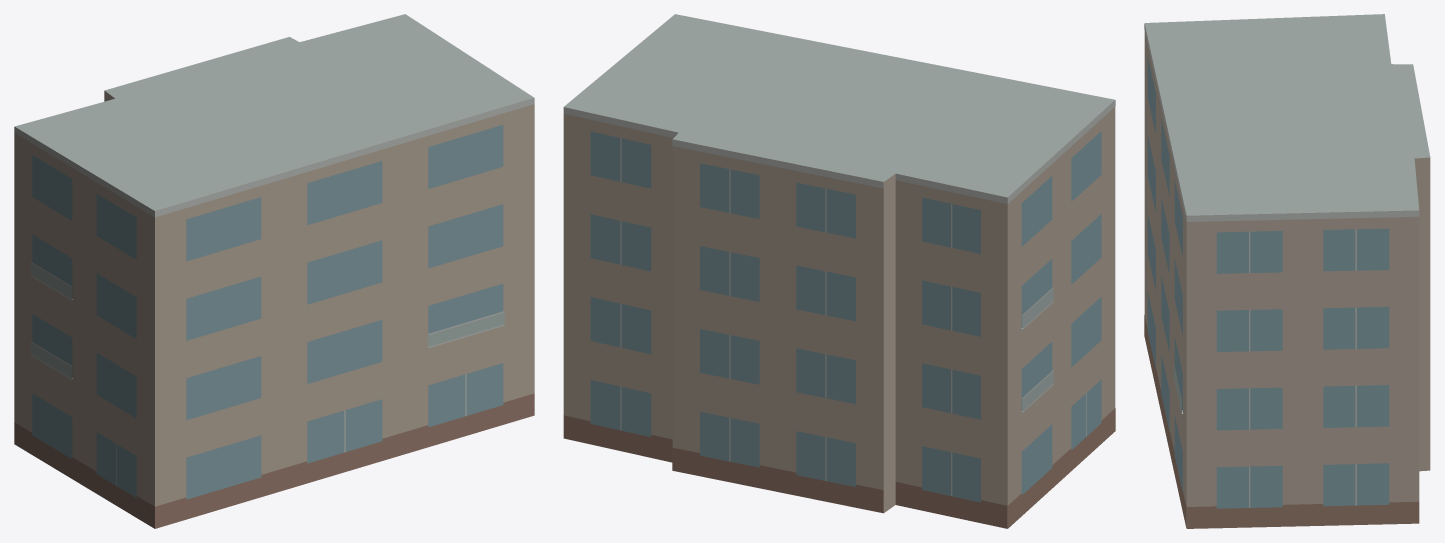
The model's file is survey-upis-32992089.glb.
The picture shows the model from 3 angles, left to right: view 1: azimuth 30°, elevation 25°; view 2: azimuth 150°, elevation 25°; view 3: azimuth 270°, elevation 25°; orthographic projection. The views are drawn at different scales.
Visible parts, largest first — view 1: survey-upis-32992089.tmp; view 2: survey-upis-32992089.tmp; view 3: survey-upis-32992089.tmp.
Boxes of the visible parts, box(x1,y1,x2,y2) form: survey-upis-32992089.tmp: box(14, 14, 534, 528); survey-upis-32992089.tmp: box(563, 14, 1115, 528); survey-upis-32992089.tmp: box(1144, 14, 1430, 528).
Bounding box in the file's own units: 16.87 × 12.2 × 10.11.
